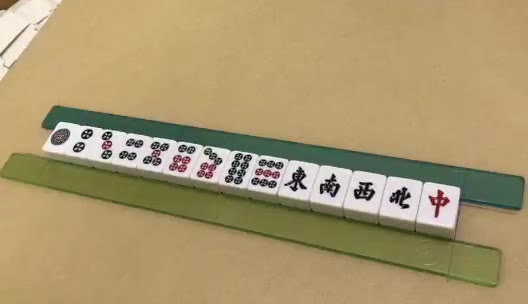1p: (50, 127, 69, 144)
1z: (284, 165, 308, 190)
2p: (71, 127, 92, 151)
2z: (318, 173, 341, 197)
3p: (100, 130, 111, 159)
3z: (354, 181, 375, 201)
4p: (116, 137, 141, 160)
4z: (389, 186, 412, 209)
5p: (142, 142, 169, 166)
6p: (166, 144, 195, 171)
7p: (197, 148, 222, 178)
7z: (428, 190, 450, 217)
8p: (224, 152, 252, 184)
9p: (251, 159, 284, 188)
